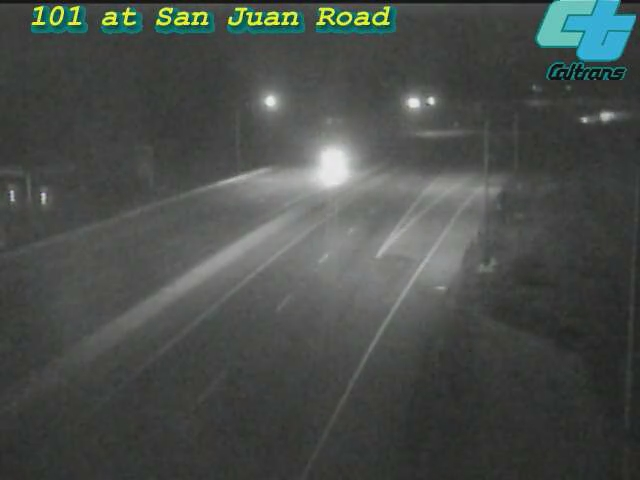vehicle: (290, 125, 370, 205), (582, 91, 632, 141)
